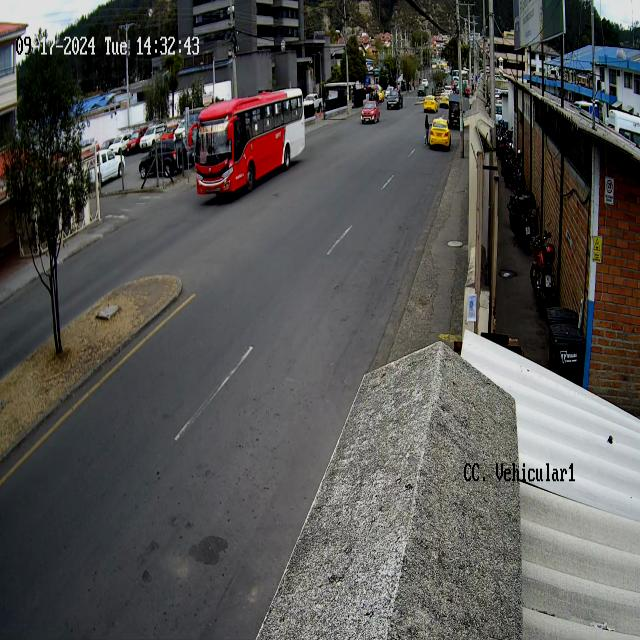BUS: (195, 90, 305, 201)
